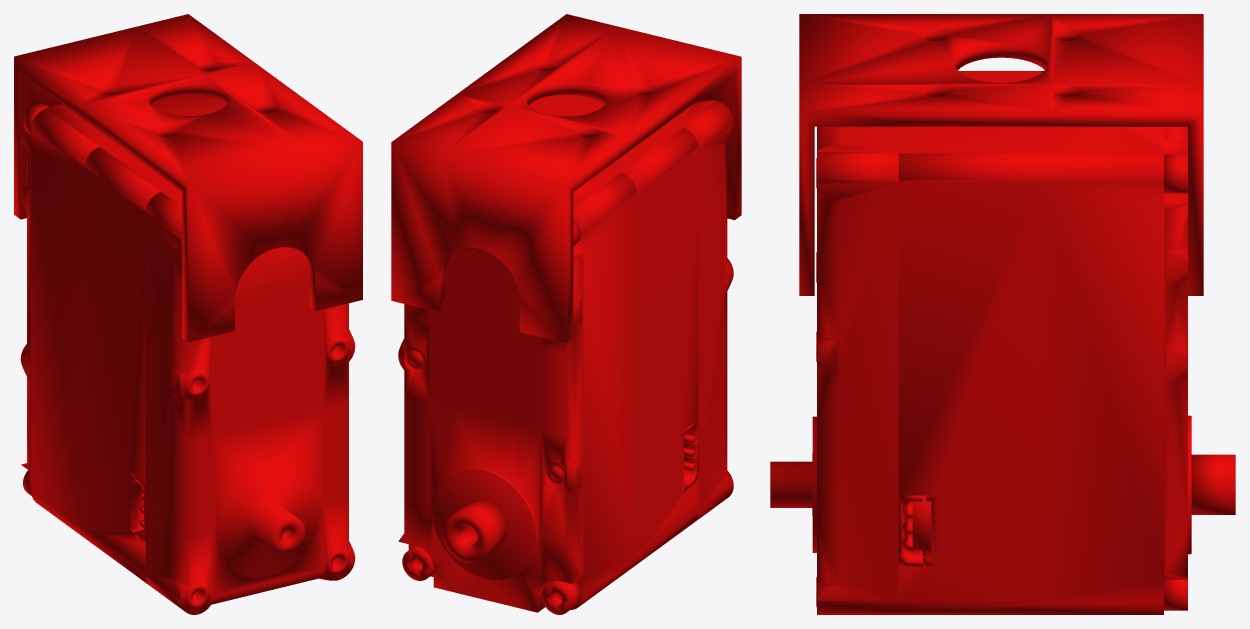
The picture shows the model from 3 angles, left to right: view 1: azimuth 30°, elevation 25°; view 2: azimuth 150°, elevation 25°; view 3: azimuth 270°, elevation 25°; orthographic projection. The views are drawn at different scales.
Parts seen in each view (by area): view 1: ID4; view 2: ID4; view 3: ID4.
Boxes of the visible parts, <box> form: ID4: <box>14,14,362,614</box>; ID4: <box>391,14,741,614</box>; ID4: <box>770,14,1235,614</box>.
Bounding box in the file's own units: 0.03 × 0.0598 × 0.0723.
